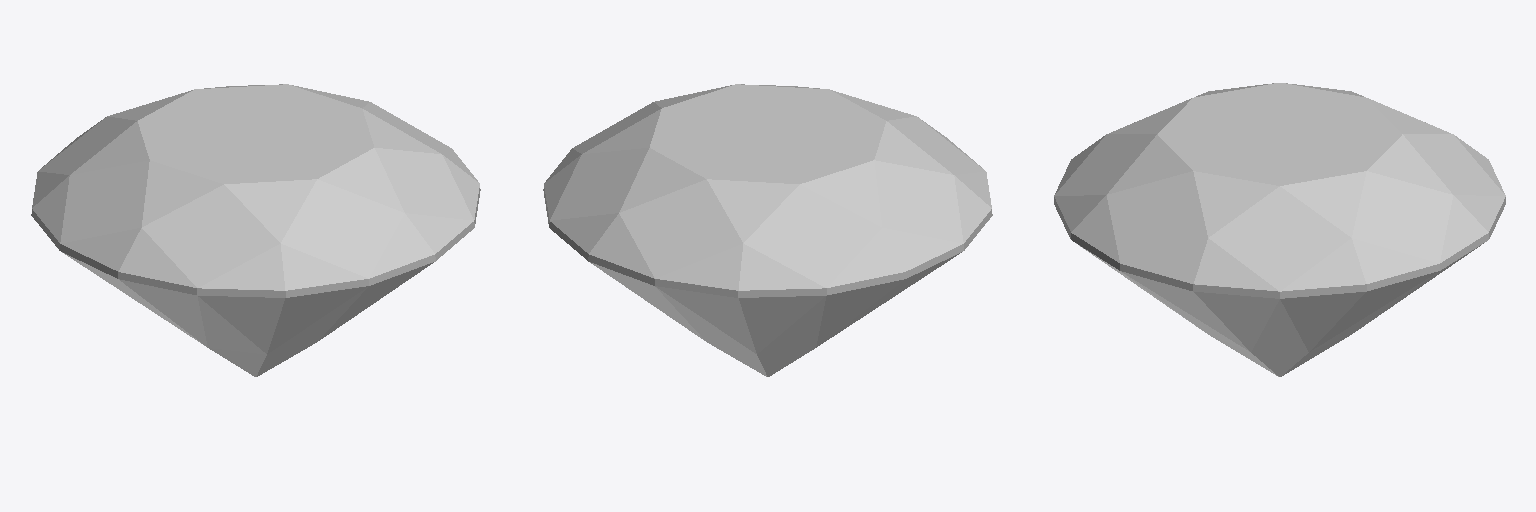
Rendered from dia_blender.obj.
3 renders of one model, left to right at view 1: azimuth 30°, elevation 25°; view 2: azimuth 150°, elevation 25°; view 3: azimuth 270°, elevation 25°, orthographic.
Visible parts, largest first — view 1: dia_meshlab; view 2: dia_meshlab; view 3: dia_meshlab.
Part boxes in pixels (bbox=[...]): dia_meshlab: bbox=[31, 84, 480, 376]; dia_meshlab: bbox=[543, 84, 992, 376]; dia_meshlab: bbox=[1054, 83, 1505, 376].
Size of the model in its own units: 1 by 0.5928 by 1.